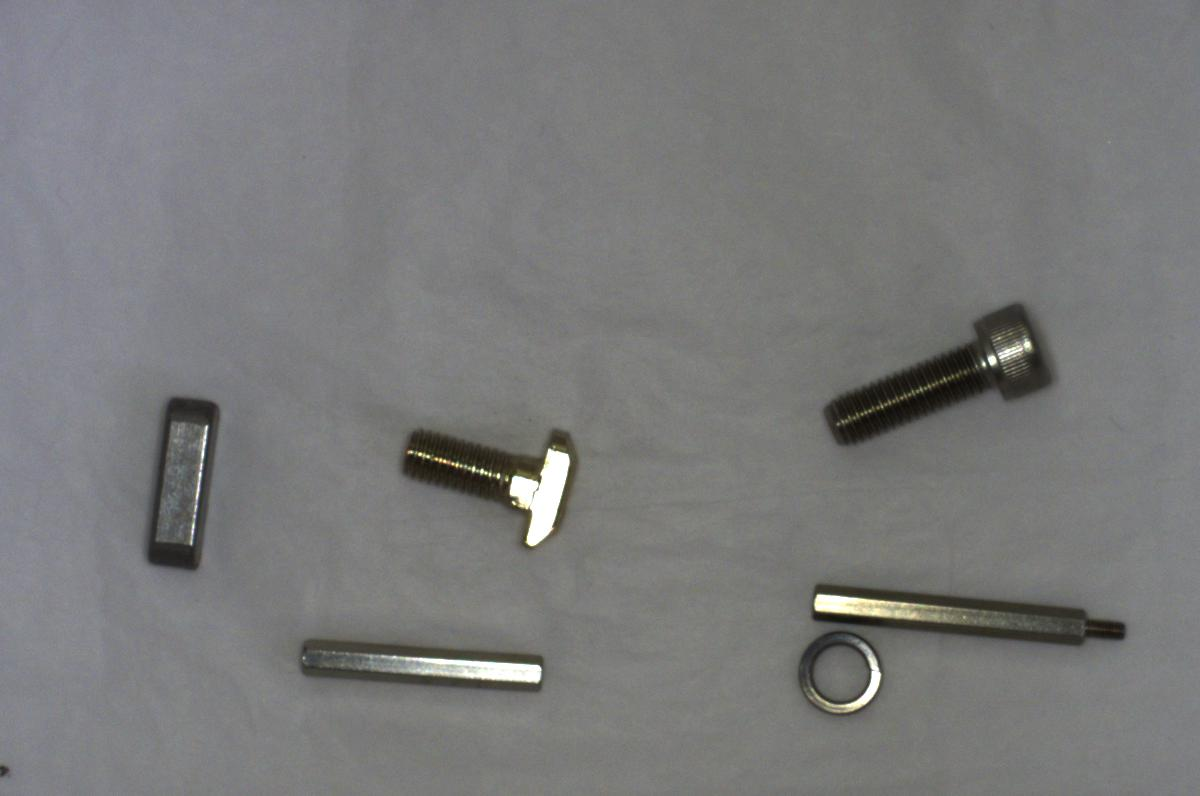Double hexagonal column: (292, 623, 551, 701)
Hexagon screw: (802, 285, 1066, 454)
Hexagonal steel column: (805, 569, 1128, 652)
Keybar: (133, 383, 235, 567)
Spring washer: (791, 632, 890, 716)
T-shaped screw: (388, 415, 580, 558)
